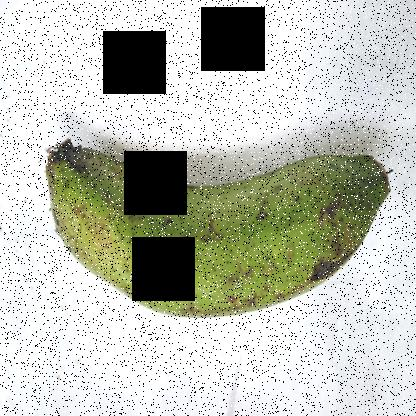unripe: (43, 111, 387, 349)
